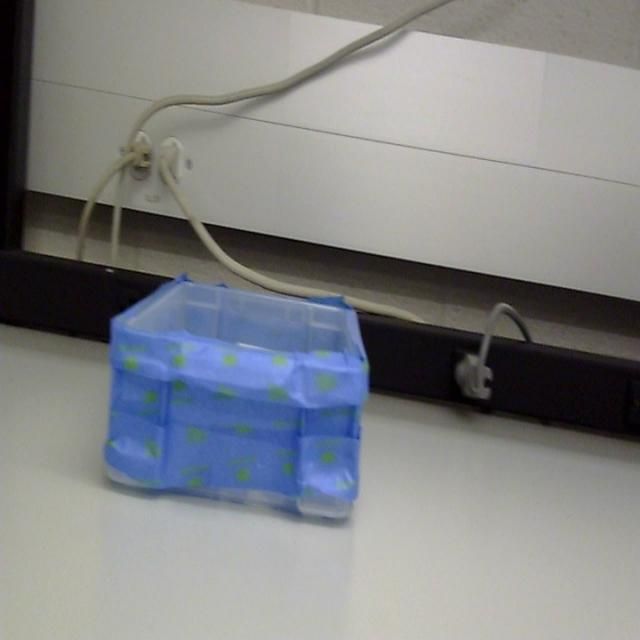bucket: (102, 278, 370, 527)
